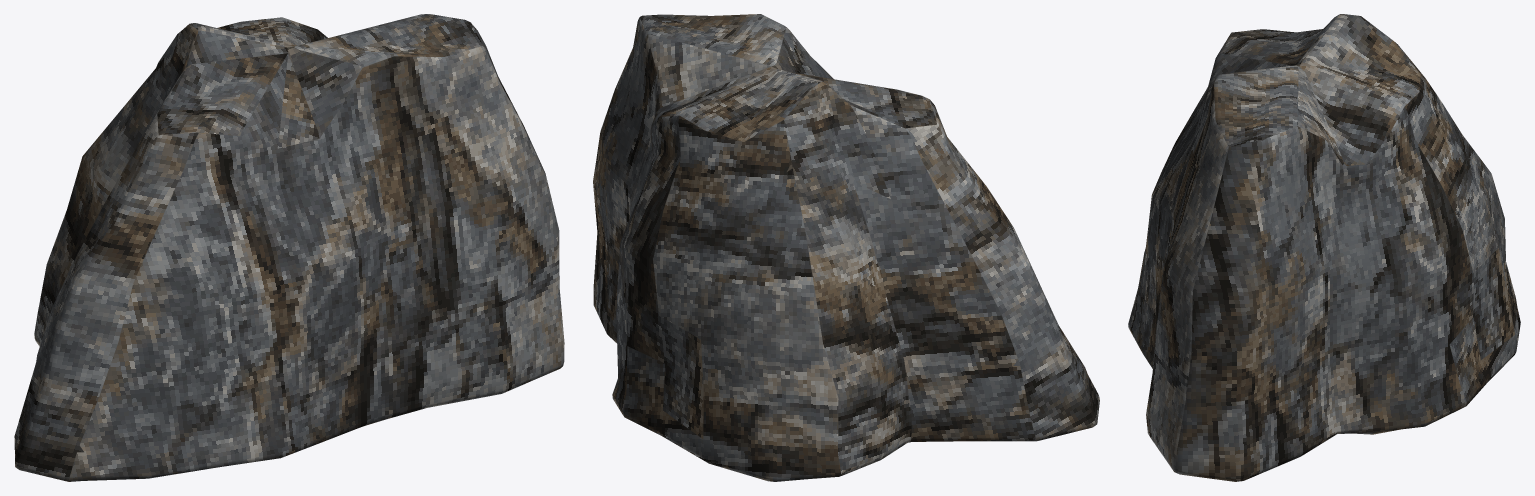
The model's file is slate_a.glb.
The picture shows the model from 3 angles, left to right: view 1: azimuth 30°, elevation 25°; view 2: azimuth 150°, elevation 25°; view 3: azimuth 270°, elevation 25°; orthographic projection. The views are drawn at different scales.
Visible parts, largest first — view 1: SlateErosion; view 2: SlateErosion; view 3: SlateErosion.
Part boxes in pixels (bbox=[...]): SlateErosion: bbox=[14, 14, 564, 481]; SlateErosion: bbox=[593, 14, 1099, 481]; SlateErosion: bbox=[1128, 14, 1520, 481].
Bounding box in the file's own units: 2.78 × 1.76 × 1.87.
1 material, 1 textured.
